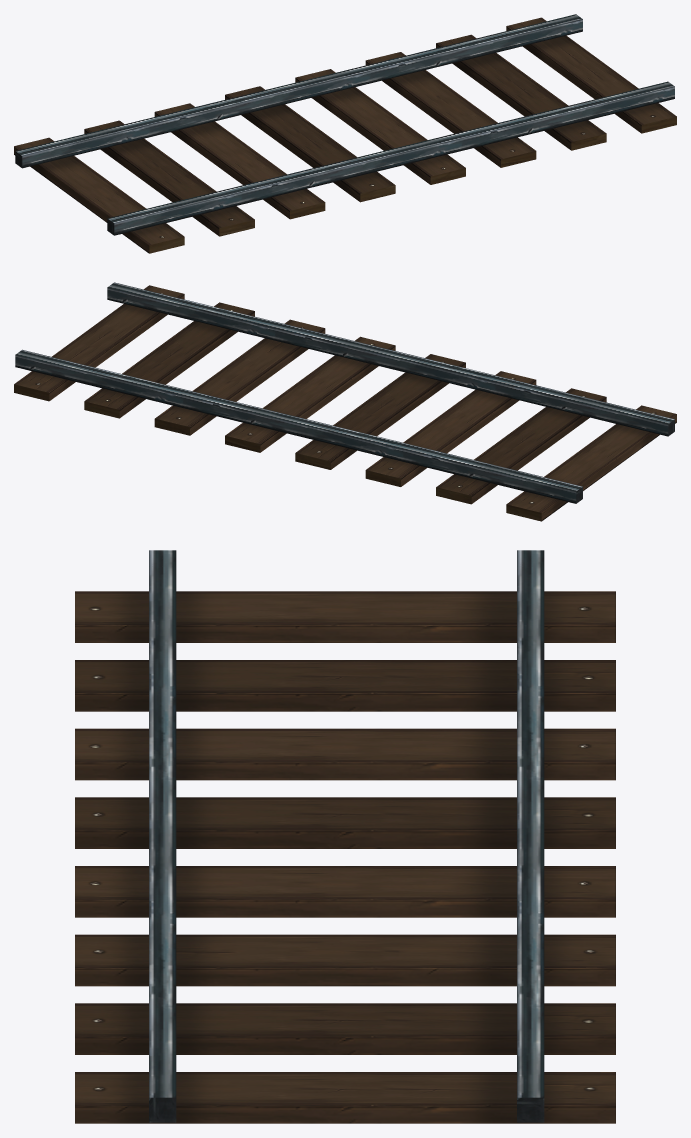
The model's file is rail2.FBX.
3 views of the same model, one above another, from view 1: azimuth 30°, elevation 25°; view 2: azimuth 150°, elevation 25°; view 3: azimuth 270°, elevation 25° (orthographic). The views are drawn at different scales.
Parts seen in each view (by area): view 1: rail2; view 2: rail2; view 3: rail2.
Part boxes in pixels (box(x1,y1,x2,y2)): rail2: box(14, 14, 676, 253); rail2: box(14, 282, 676, 521); rail2: box(75, 550, 615, 1123).
Bounding box in the file's own units: 285 × 10.19 × 119.
